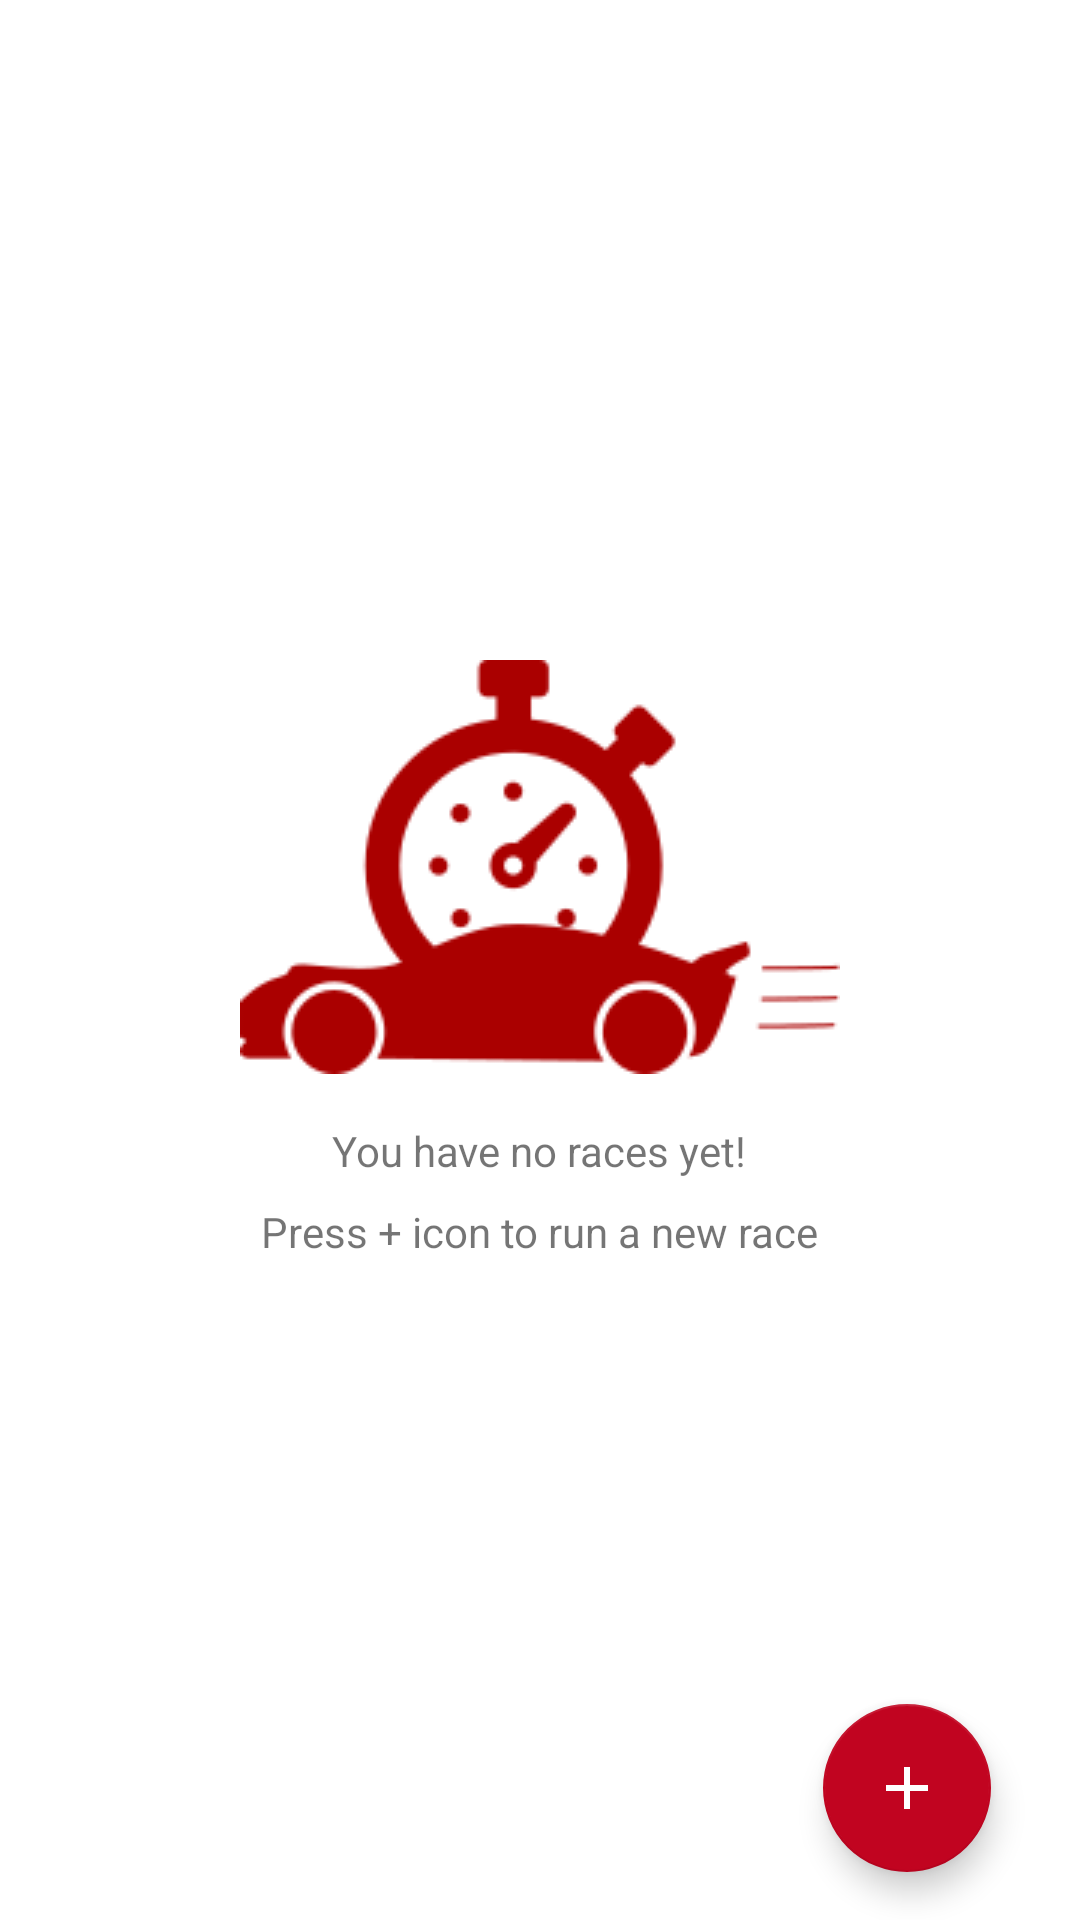

Named icons in this screenshot (1080x1920) and their centers, (x=x, y=y):
add: (x=907, y=1788)
